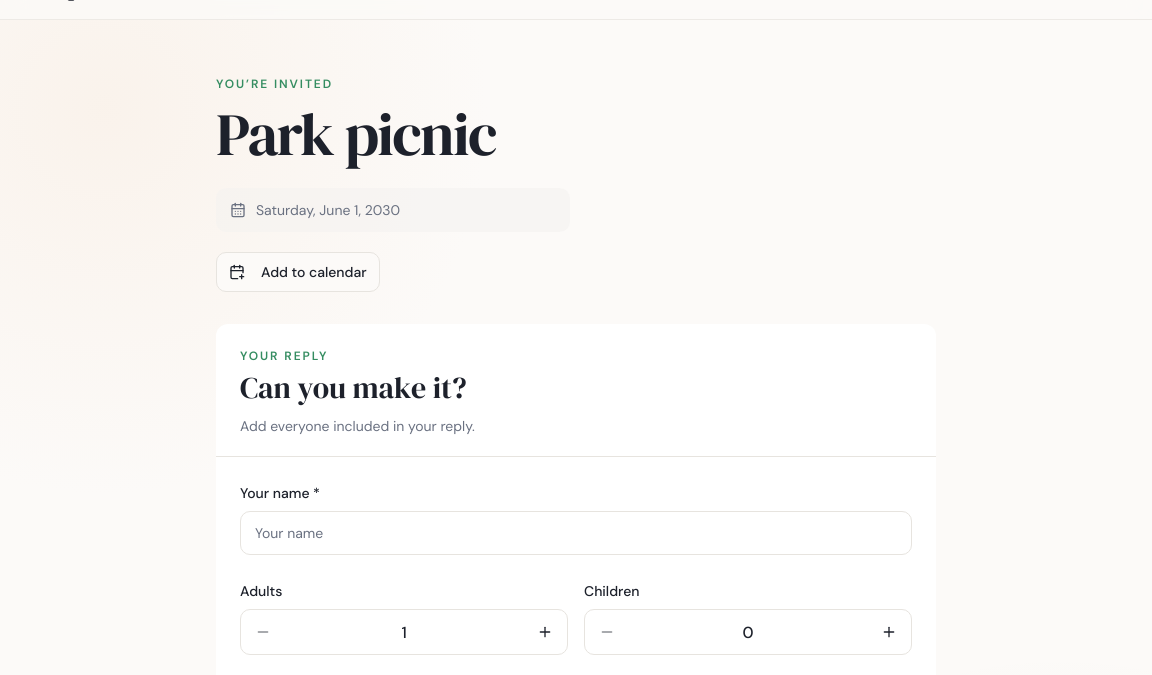
EventPage › tells the guest when the confirmation could not be sent
Type "Ada" into the field labelled "Your name *" at (576, 533), box [240, 511, 912, 555]
(page scrolled)
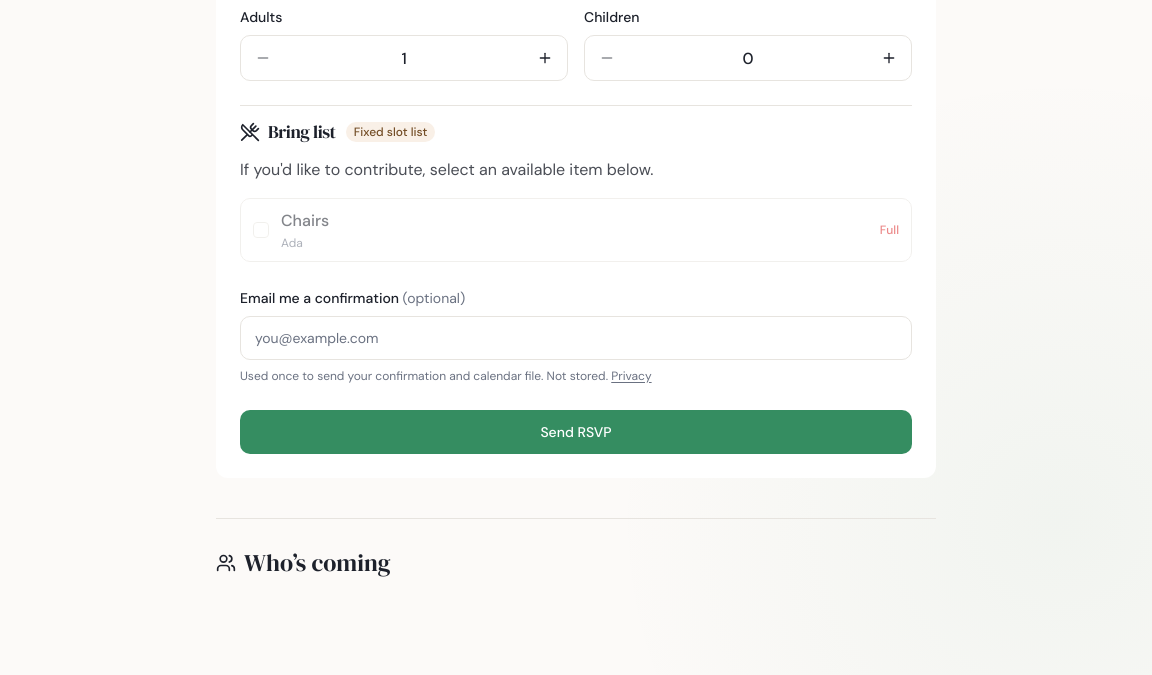
Type "ada@example.com" into the field labelled "Email me a confirmation (optional)" at (576, 338), box [240, 316, 912, 360]
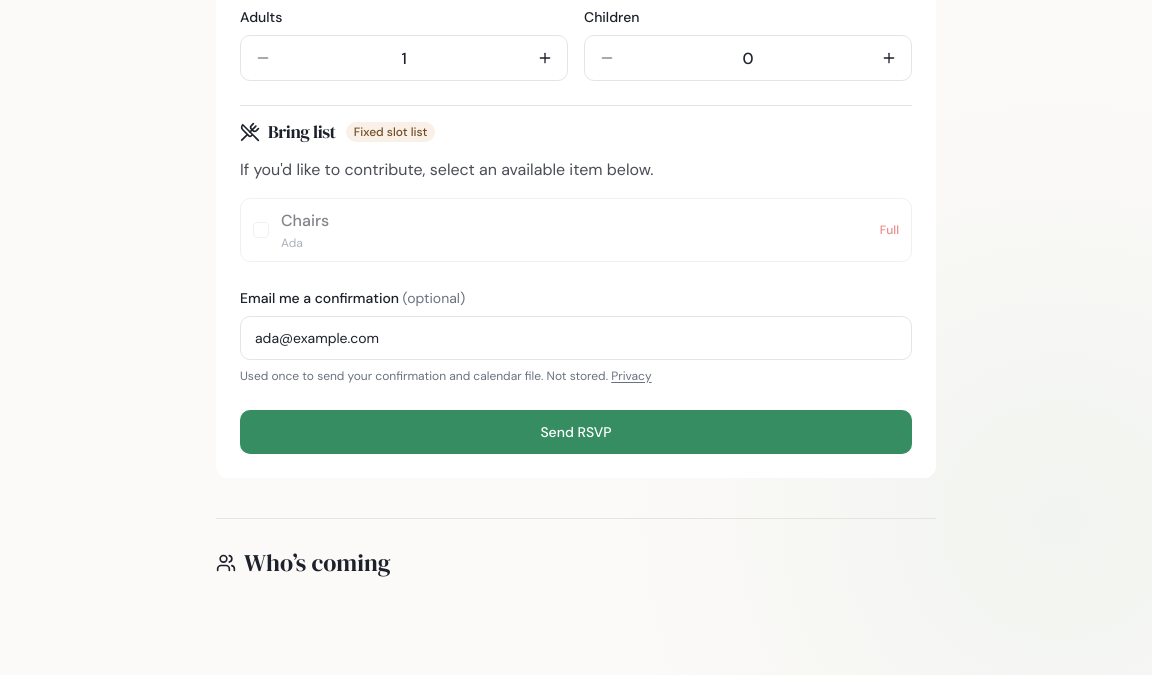
Click the button "Send RSVP" at (576, 432), box [240, 410, 912, 454]
(page scrolled)
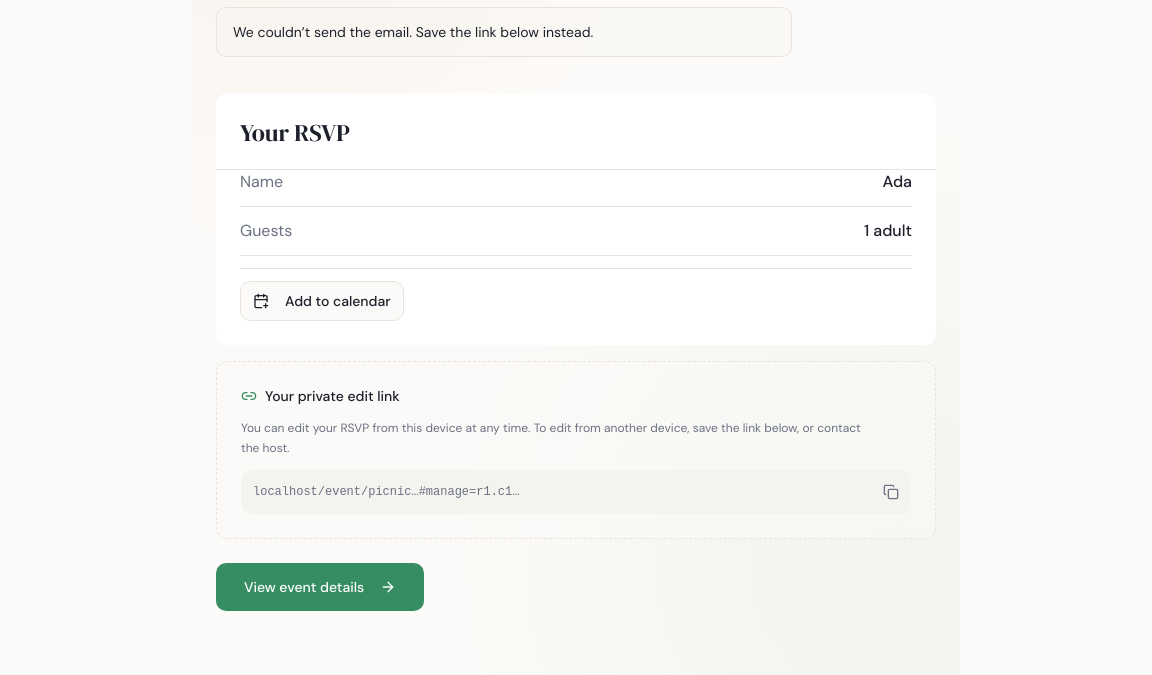
Check: the message reads "We couldn’t send the email. Save the link below instead.", box [233, 23, 593, 41]
